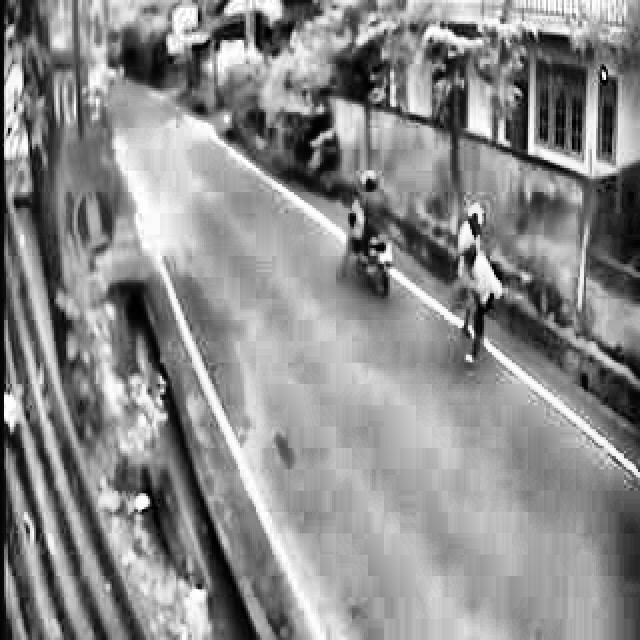robbery: (446, 201, 530, 365)
